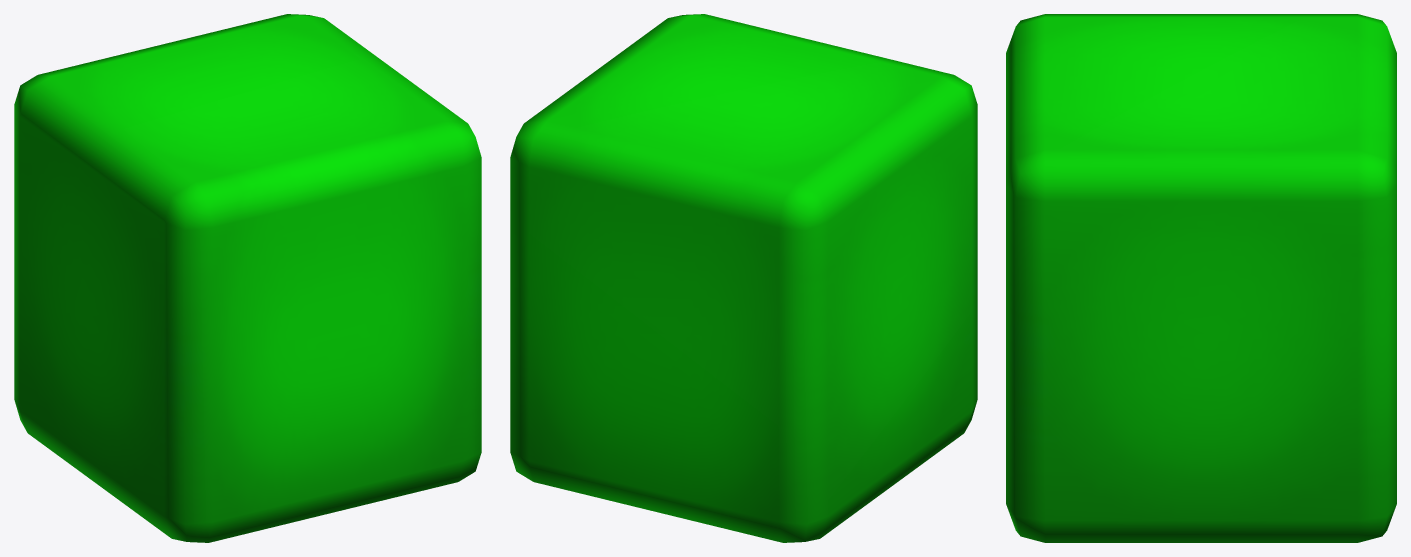
File: FX_box_green.fbx
3 renders of one model, left to right at view 1: azimuth 30°, elevation 25°; view 2: azimuth 150°, elevation 25°; view 3: azimuth 270°, elevation 25°, orthographic. The views are drawn at different scales.
Visible parts, largest first — view 1: FX_box_green; view 2: FX_box_green; view 3: FX_box_green.
Part boxes in pixels (x1=…): FX_box_green: x1=14, y1=14, x2=481, y2=542; FX_box_green: x1=510, y1=14, x2=977, y2=542; FX_box_green: x1=1006, y1=14, x2=1396, y2=542.
Size of the model in its own units: 100 by 110 by 100.
Materials: 1 (1 with a texture image).
